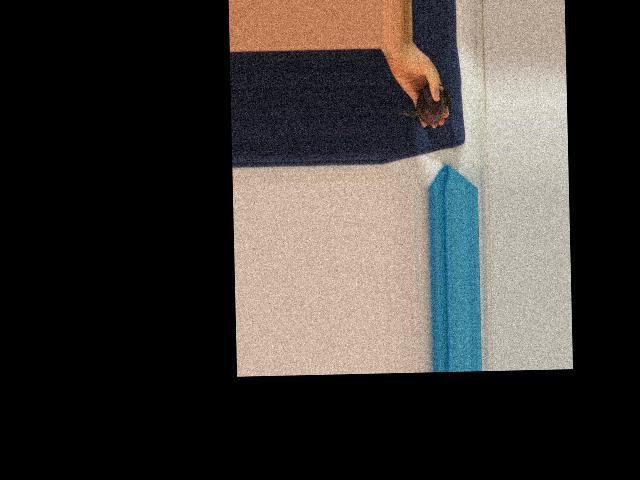beet: (392, 83, 450, 125)
